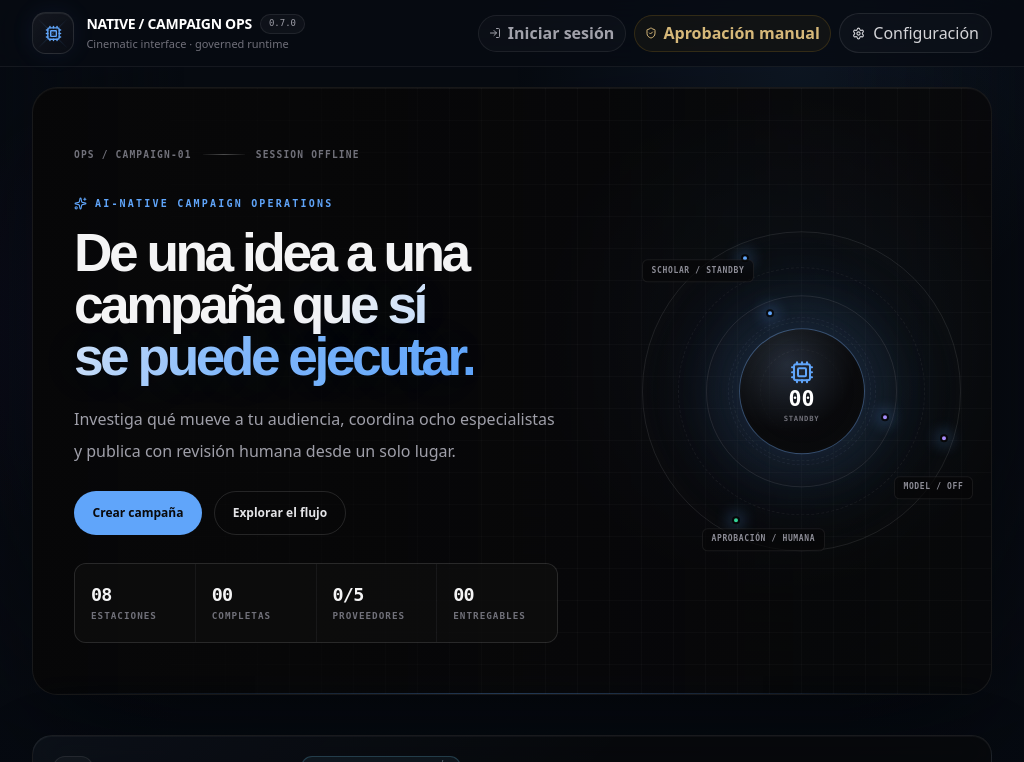
Test: product workspace shell › opens username and password login from the top navigation
Expected: the field labelled "Usuario" is not shown
Click the button "Iniciar sesión".
click(552, 33)  # box x1=478 y1=15 x2=626 y2=52
(page scrolled)
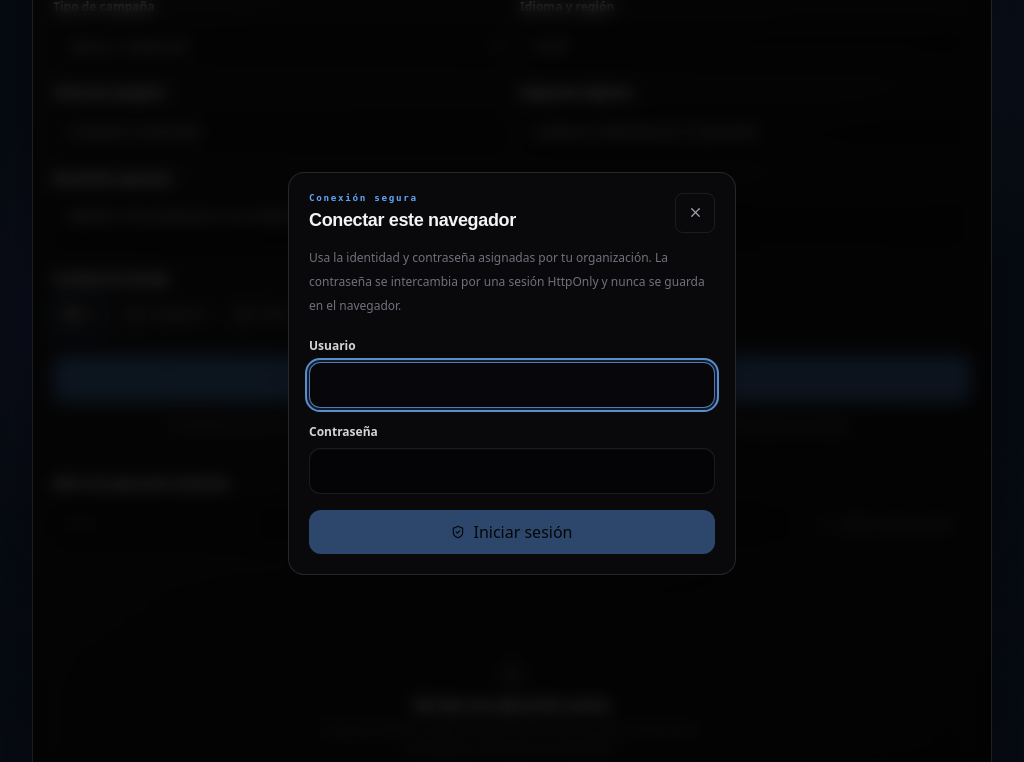
Expected: the dialog "Conectar este navegador" is shown, x1=288 y1=172 x2=736 y2=575
Expected: the field labelled "Usuario" is shown, x1=309 y1=362 x2=715 y2=408
Click the button named "Cerrar diálogo de conexión".
click(695, 212)  # box x1=675 y1=192 x2=715 y2=232
(page scrolled)
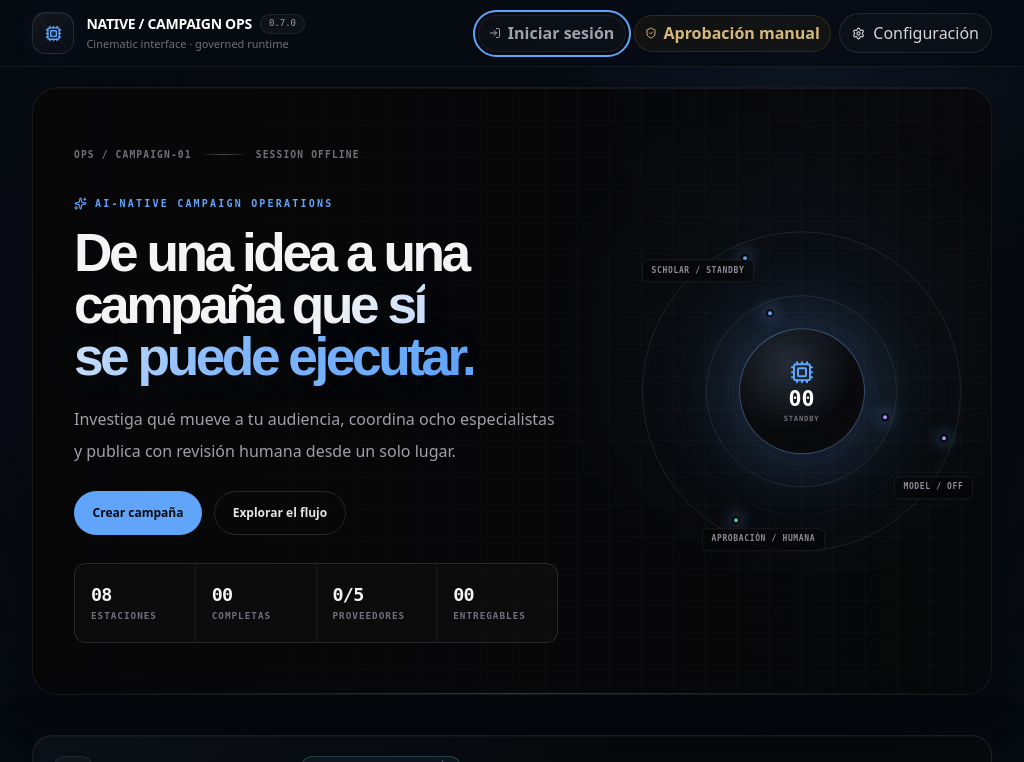
Expected: the label labelled "Usuario" is gone
Expected: the label labelled "Contraseña" is gone
